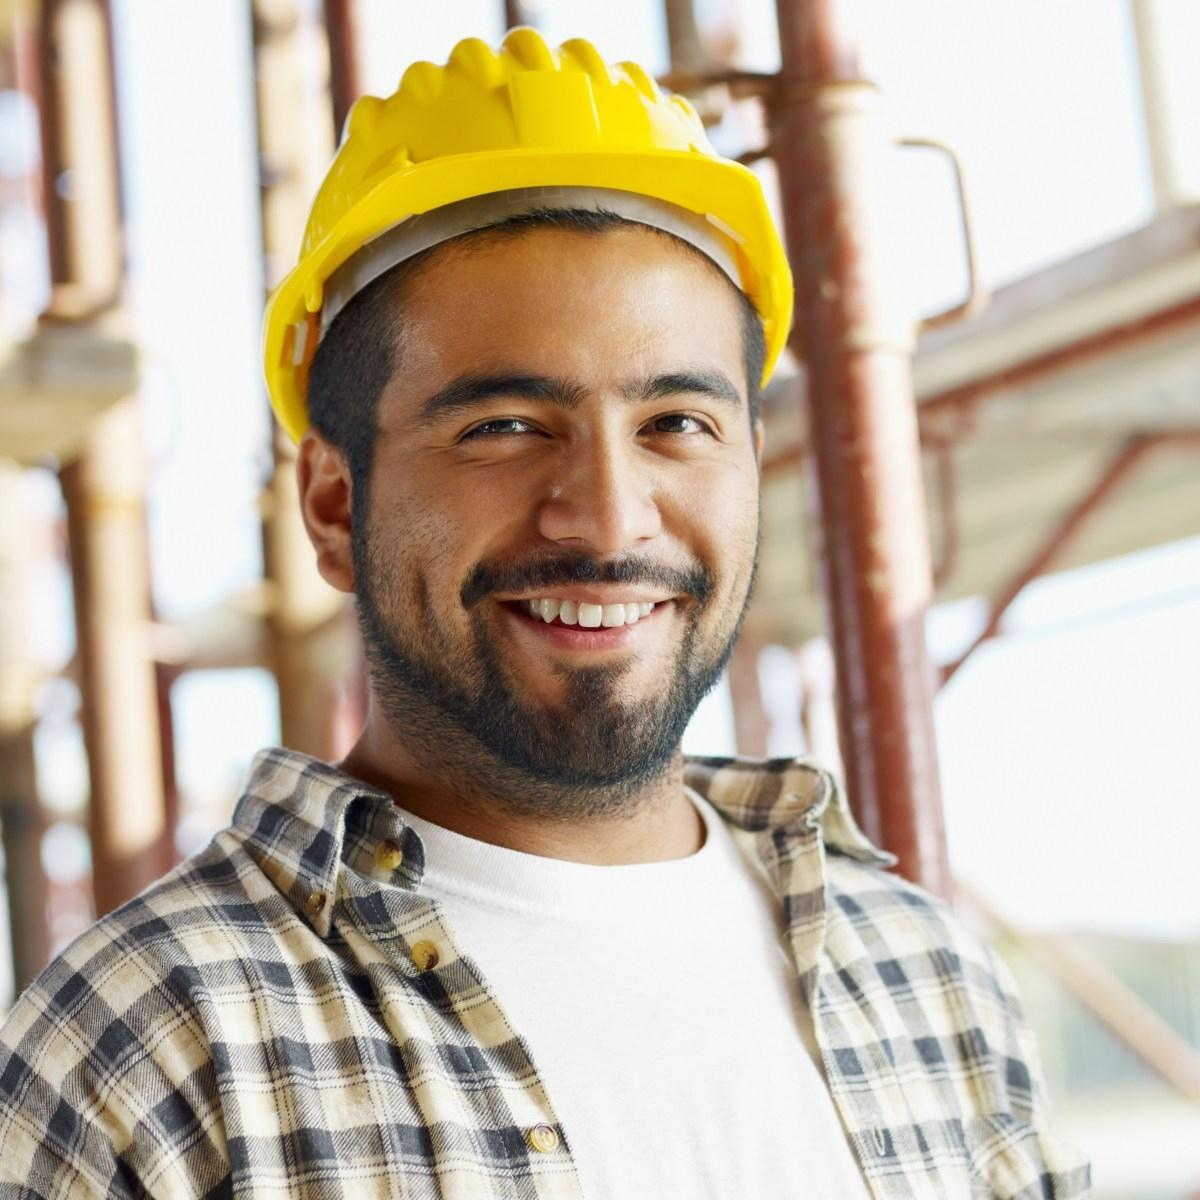helmet: (260, 25, 799, 467)
no_wear: (0, 805, 1110, 1200)
